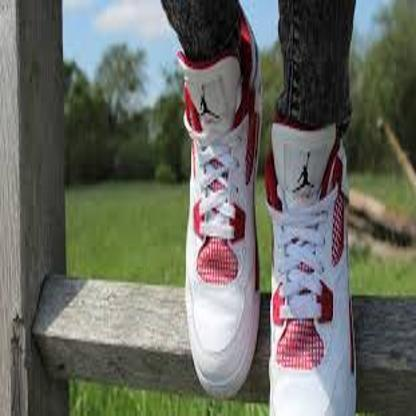not trash: (172, 46, 252, 400), (267, 121, 355, 416)
